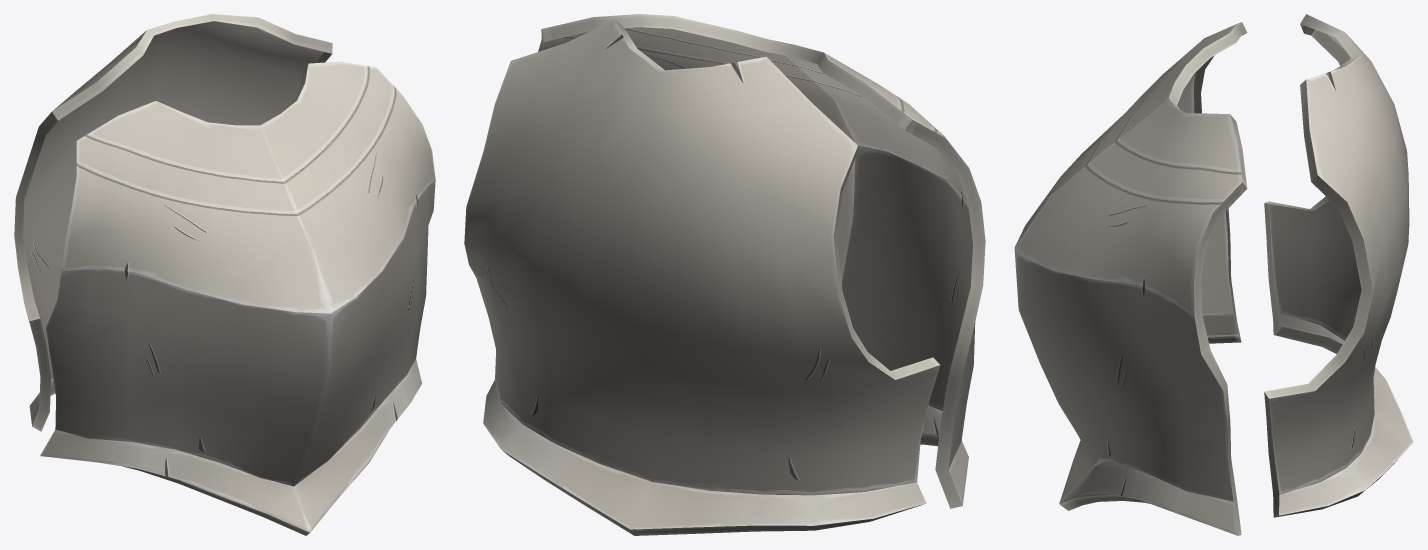
File: amorplastron.glb
The picture shows the model from 3 angles, left to right: view 1: azimuth 30°, elevation 25°; view 2: azimuth 150°, elevation 25°; view 3: azimuth 270°, elevation 25°; orthographic projection. The views are drawn at different scales.
Parts seen in each view (by area): view 1: amorplastron; view 2: amorplastron; view 3: amorplastron.
Boxes of the visible parts, x1,y1,x2,y2 form: amorplastron: (14,14,435,535); amorplastron: (464,14,985,535); amorplastron: (1014,14,1413,535).
Bounding box in the file's own units: 0.4038 × 0.4318 × 0.3363.
1 material, 1 textured.
